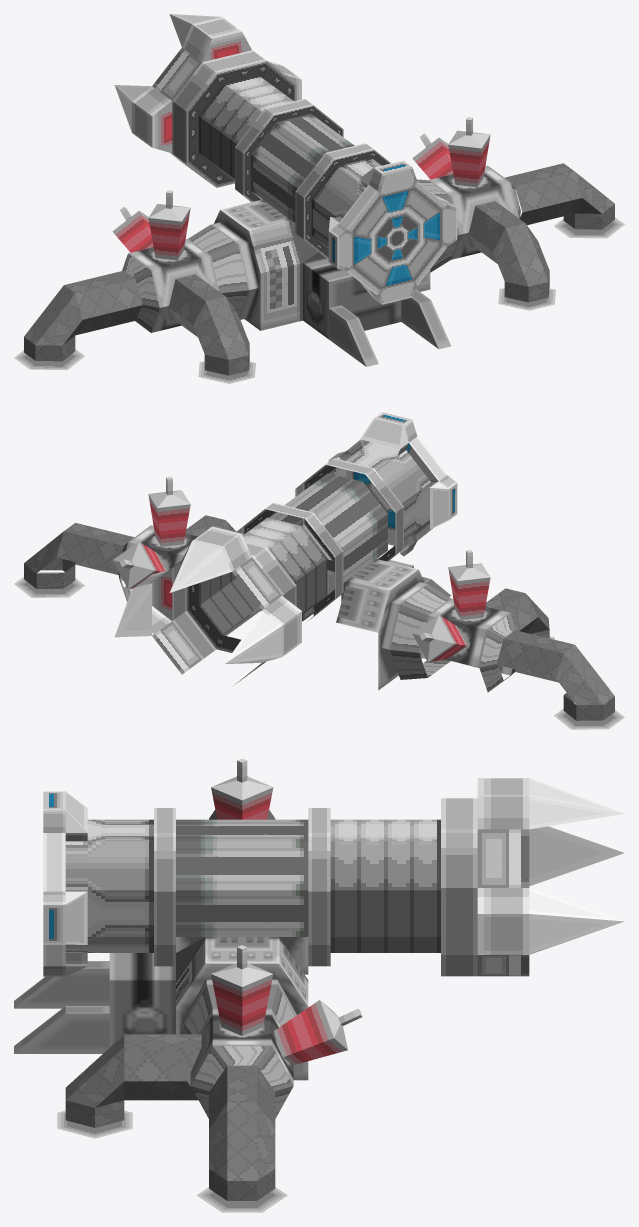
3 renders of one model, top to bottom at view 1: azimuth 30°, elevation 25°; view 2: azimuth 150°, elevation 25°; view 3: azimuth 270°, elevation 25°, orthographic. The views are drawn at different scales.
Parts seen in each view (by area): view 1: polygon1, polygon0, polygon2, polygon4, polygon6, polygon3, polygon5; view 2: polygon1, polygon2, polygon0, polygon6, polygon4, polygon3; view 3: polygon2, polygon1, polygon4, polygon0, polygon3, polygon6, polygon5.
Part boxes in pixels (box(x1,y1,x2,y2)): polygon1: box(14, 14, 624, 383); polygon0: box(24, 163, 614, 375); polygon2: box(172, 50, 390, 259); polygon4: box(128, 165, 518, 366); polygon6: box(112, 117, 520, 332); polygon3: box(251, 113, 354, 222); polygon5: box(249, 220, 430, 330); polygon1: box(14, 412, 624, 729); polygon2: box(172, 442, 430, 669); polygon0: box(24, 515, 614, 720); polygon6: box(112, 476, 516, 692); polygon4: box(119, 525, 512, 690); polygon3: box(268, 473, 387, 582); polygon2: box(65, 798, 477, 976); polygon1: box(43, 778, 624, 1212); polygon4: box(14, 937, 308, 1085); polygon0: box(65, 810, 275, 1200); polygon3: box(176, 819, 308, 936); polygon6: box(180, 758, 362, 1118); polygon5: box(176, 937, 205, 1006).
Bounding box in the file's own units: 14.88 × 4.5 × 10.38.
Materials: 7 (7 with a texture image).
